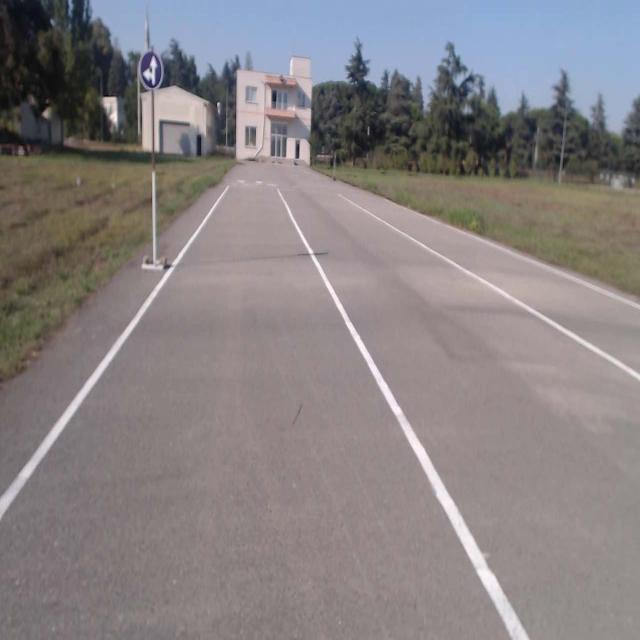ilerisol: (139, 50, 163, 90)
